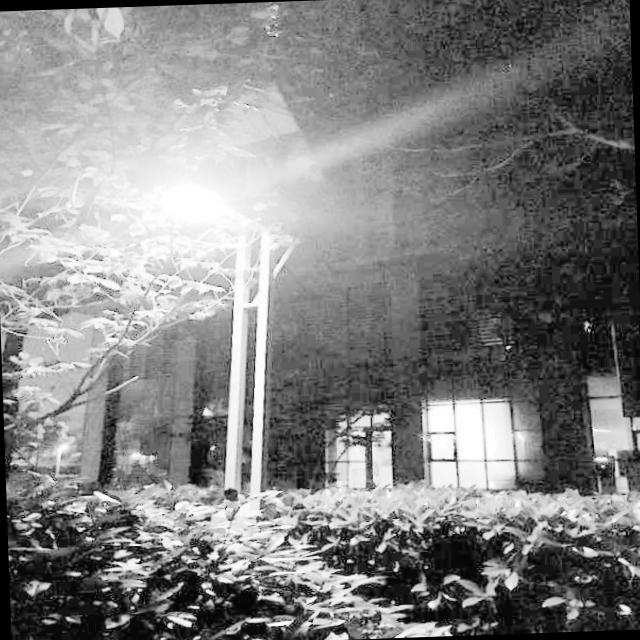Light: (135, 173, 278, 502)
